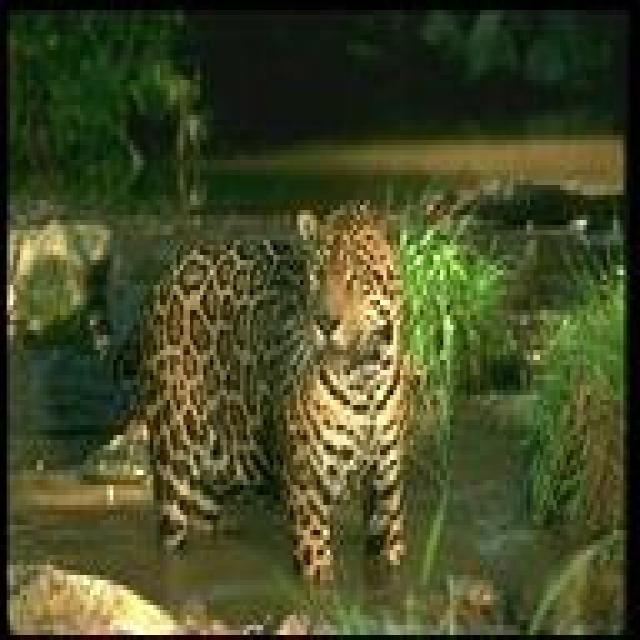Leopard: (139, 198, 415, 580)
